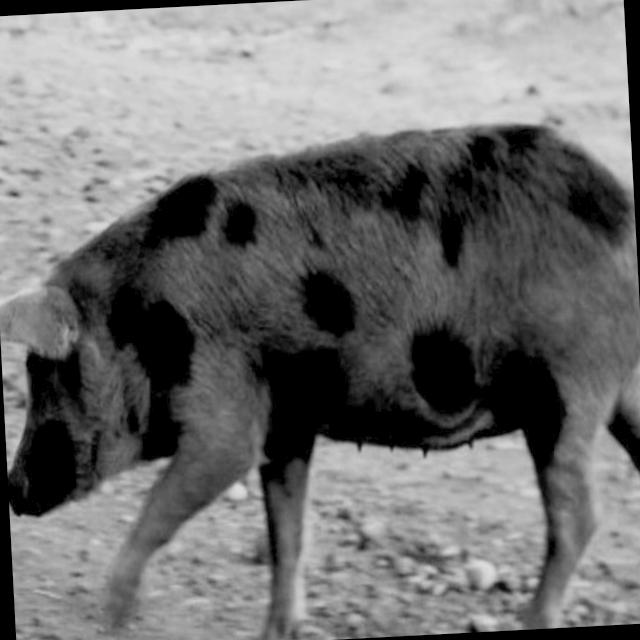pig: (0, 125, 640, 639)
